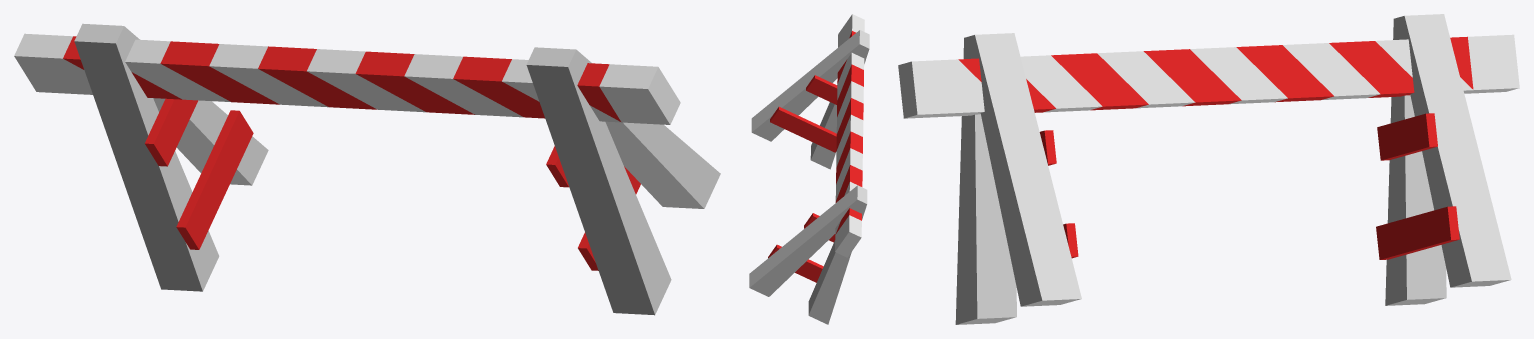
File: barrier3.fbx
3 renders of one model, left to right at view 1: azimuth 30°, elevation 25°; view 2: azimuth 150°, elevation 25°; view 3: azimuth 270°, elevation 25°, orthographic. The views are drawn at different scales.
Parts seen in each view (by area): view 1: Cube.002, Cube, Cube.001, Cube.007, Cube.006, Cube.005, Cube.004; view 2: Cube.001, Cube.002, Cube, Cube.007, Cube.004, Cube.003, Cube.006, Cube.005; view 3: Cube.002, Cube.001, Cube, Cube.007, Cube.006, Cube.005.
Part boxes in pixels (x1,y1,x2,y2): Cube.002: [526, 47, 720, 315]; Cube: [14, 33, 680, 124]; Cube.001: [74, 23, 268, 291]; Cube.007: [63, 36, 620, 121]; Cube.006: [176, 110, 253, 249]; Cube.005: [144, 98, 198, 166]; Cube.004: [578, 166, 640, 270]; Cube.001: [749, 185, 867, 324]; Cube.002: [751, 30, 869, 169]; Cube: [835, 14, 864, 257]; Cube.007: [835, 31, 863, 234]; Cube.004: [770, 106, 836, 152]; Cube.003: [806, 75, 837, 104]; Cube.006: [768, 244, 823, 282]; Cube.005: [804, 213, 835, 242]; Cube.002: [955, 33, 1081, 324]; Cube.001: [1385, 14, 1511, 305]; Cube: [898, 34, 1519, 118]; Cube.007: [958, 36, 1473, 112]; Cube.006: [1376, 206, 1459, 259]; Cube.005: [1377, 113, 1437, 160].
Bounding box in the file's own units: 74.6 × 57.26 × 92.15.
